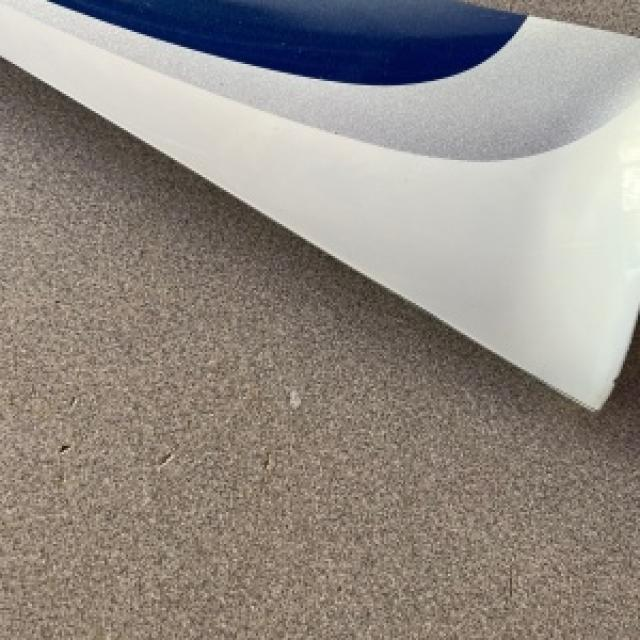healthy: (0, 0, 638, 403)
